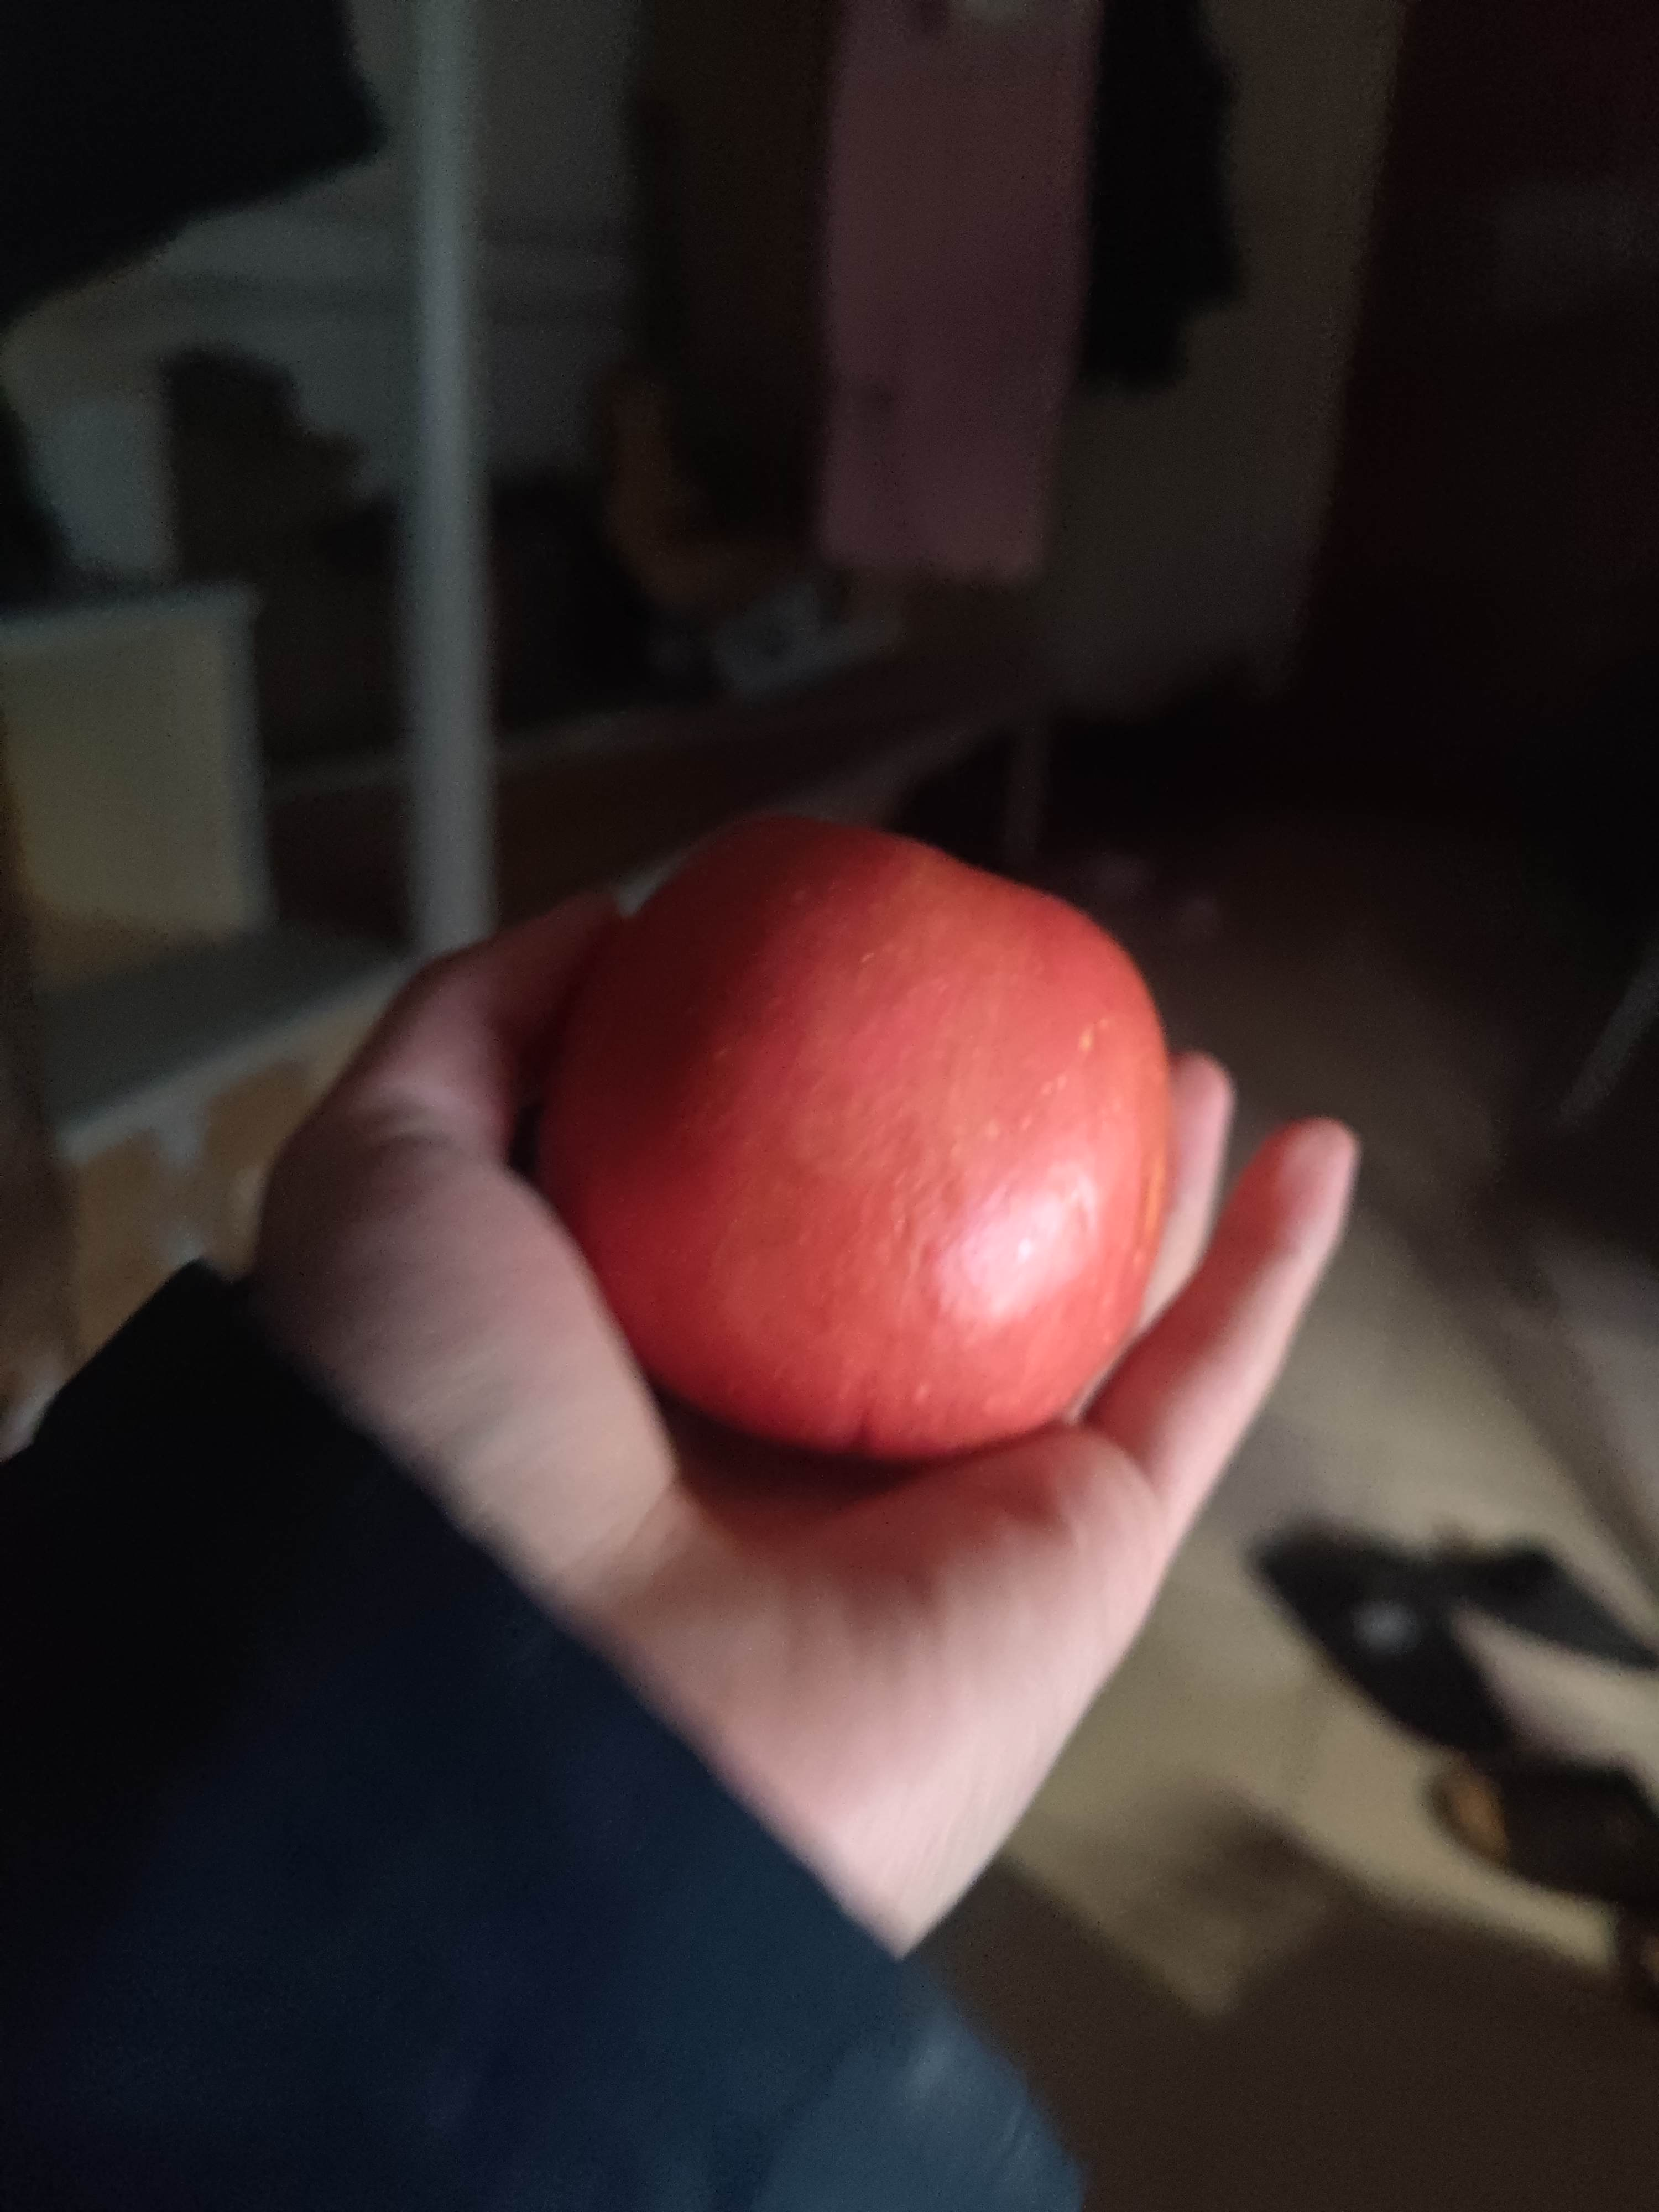apple: (535, 805, 1176, 1454)
